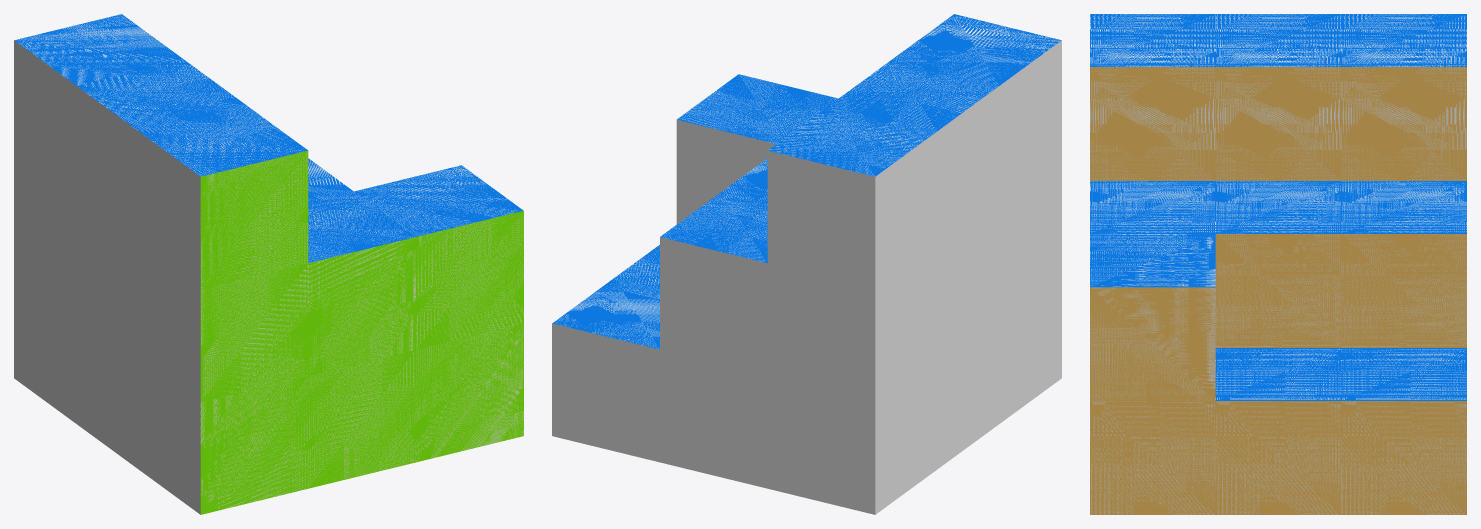
3 views of the same model, side by side, from view 1: azimuth 30°, elevation 25°; view 2: azimuth 150°, elevation 25°; view 3: azimuth 270°, elevation 25° (orthographic).
Parts seen in each view (by area): view 1: SketchUp (×4); view 2: SketchUp (×4); view 3: SketchUp (×6).
Boxes of the visible parts, left/top/right/bottom form: SketchUp (×4): left=14, top=14, right=523, bottom=514; SketchUp (×4): left=552, top=14, right=1061, bottom=514; SketchUp (×6): left=1090, top=14, right=1466, bottom=514.
Bounding box in the file's own units: 47.24 × 47.24 × 47.24.
